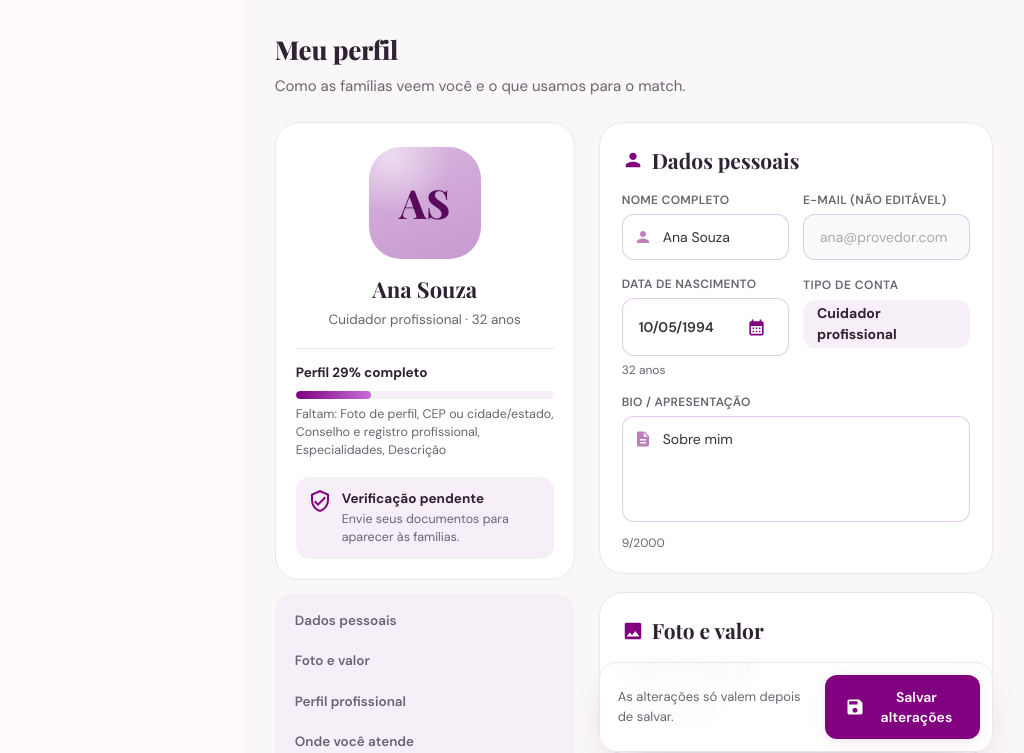
Test: Página de Perfil › salva o perfil com sucesso
Replace the text in the field labelled "Nome completo" with "Ana Nova" at (705, 237), box x1=622 y1=214 x2=789 y2=260
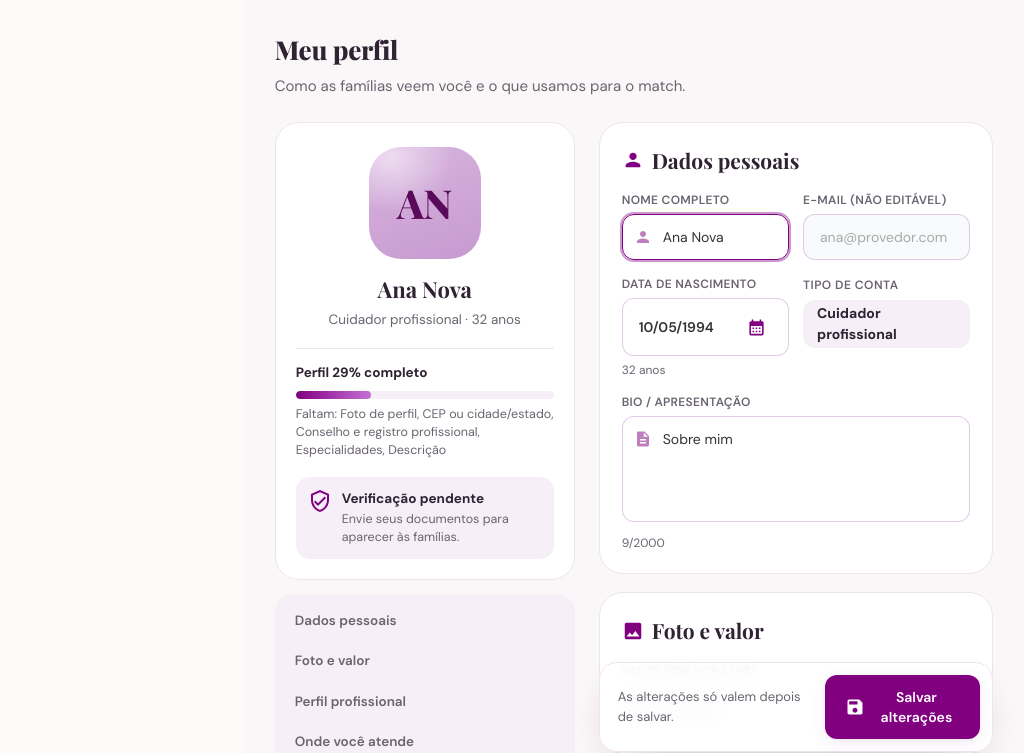
Click the button "Salvar alterações" at (902, 707), box x1=825 y1=675 x2=980 y2=739
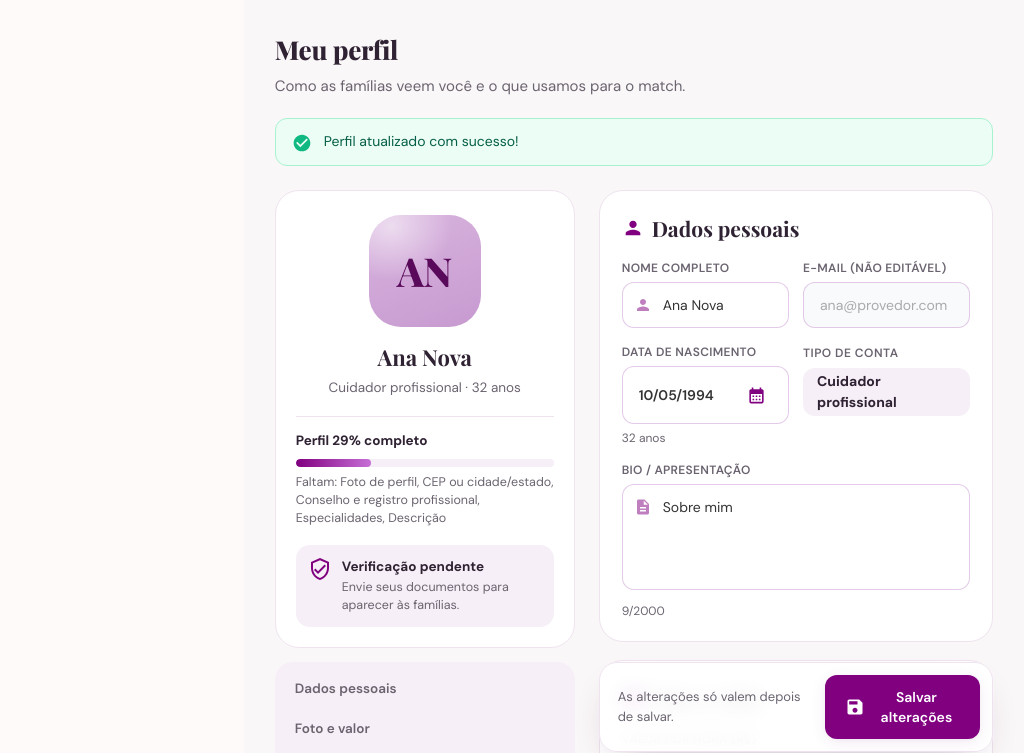
expect the text "Perfil atualizado com sucesso!" is shown: met, box x1=324 y1=130 x2=518 y2=150
